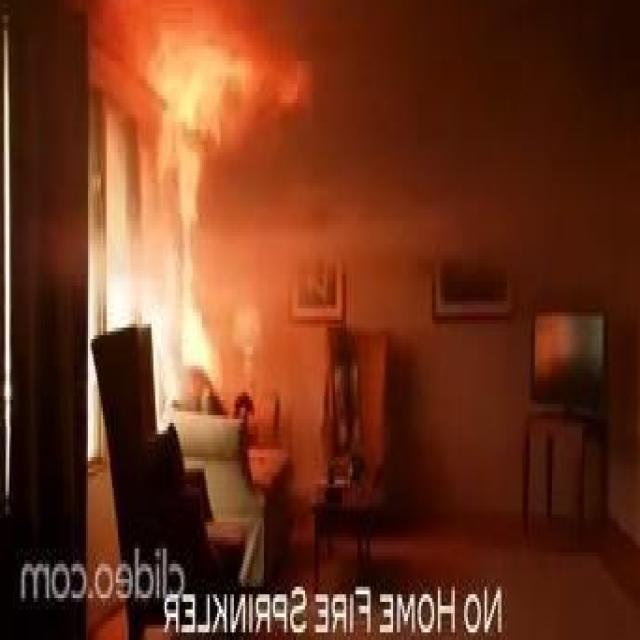smoke: (156, 38, 300, 168), (178, 160, 222, 373)
